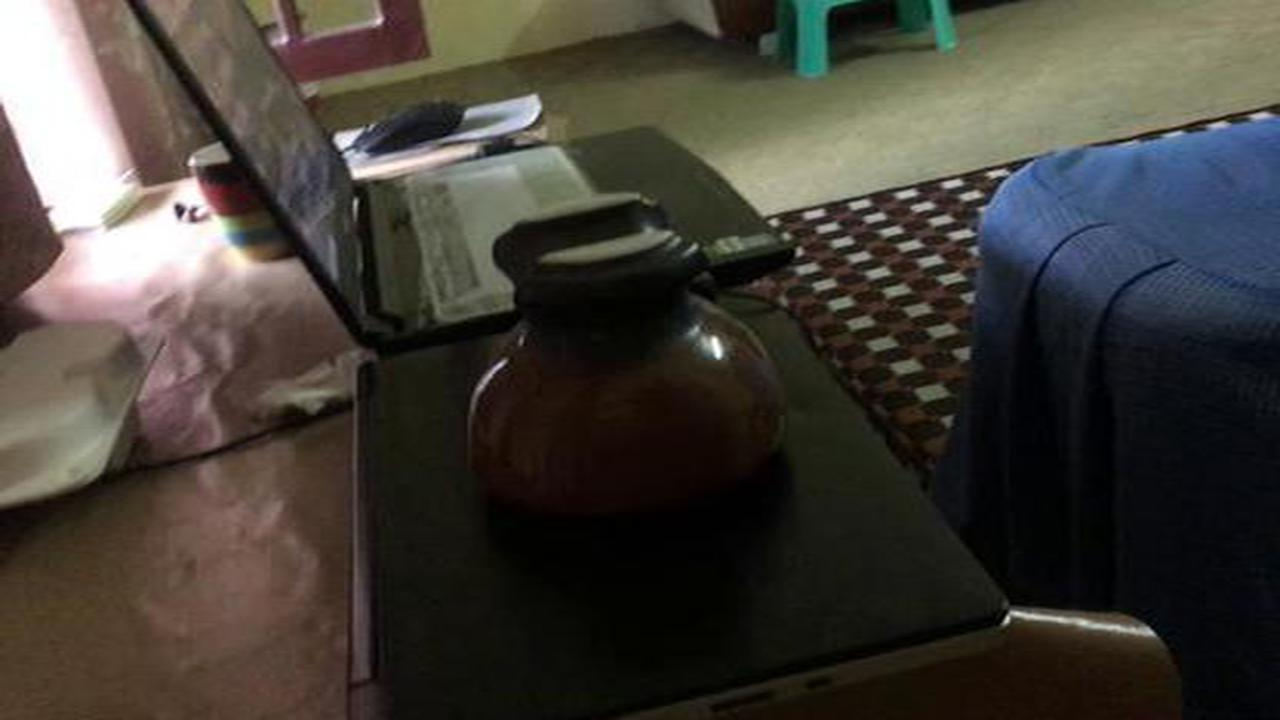insulator_pin: (447, 186, 801, 544)
